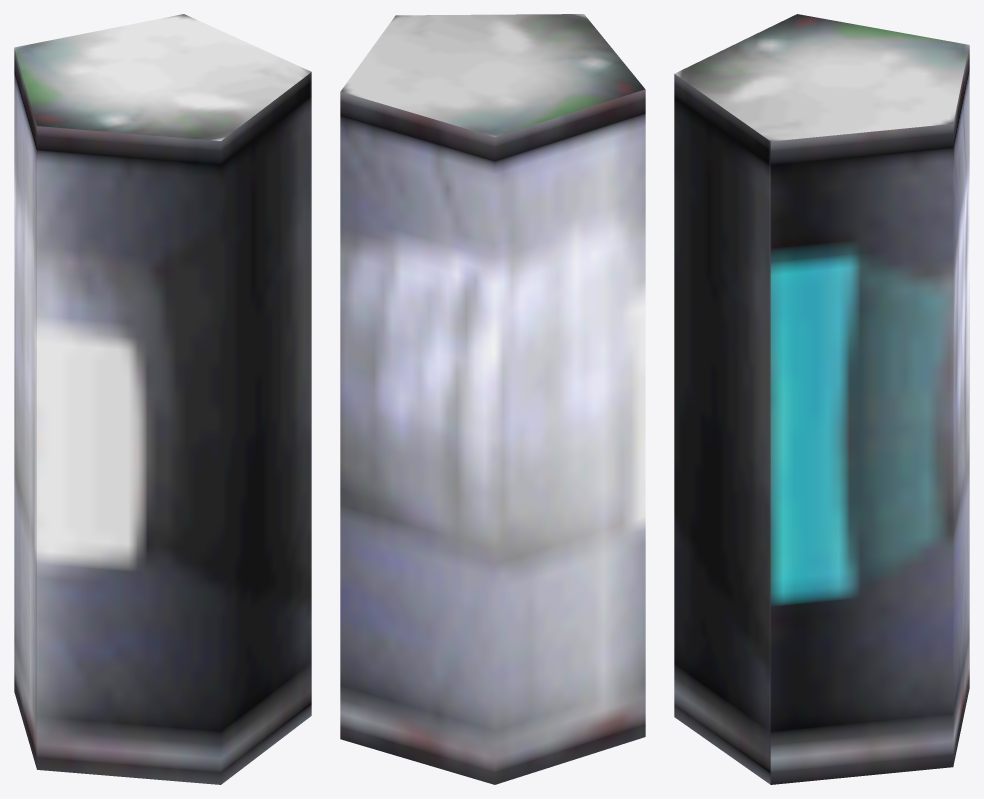
3 views of the same model, side by side, from view 1: azimuth 30°, elevation 25°; view 2: azimuth 150°, elevation 25°; view 3: azimuth 270°, elevation 25° (orthographic).
Parts seen in each view (by area): view 1: Cylinder02; view 2: Cylinder02; view 3: Cylinder02.
Part boxes in pixels (x1,y1,x2,y2): Cylinder02: (14,14,311,784); Cylinder02: (340,14,645,784); Cylinder02: (674,14,969,784).
Bounding box in the file's own units: 146 × 342 × 142.
1 material, 1 textured.
